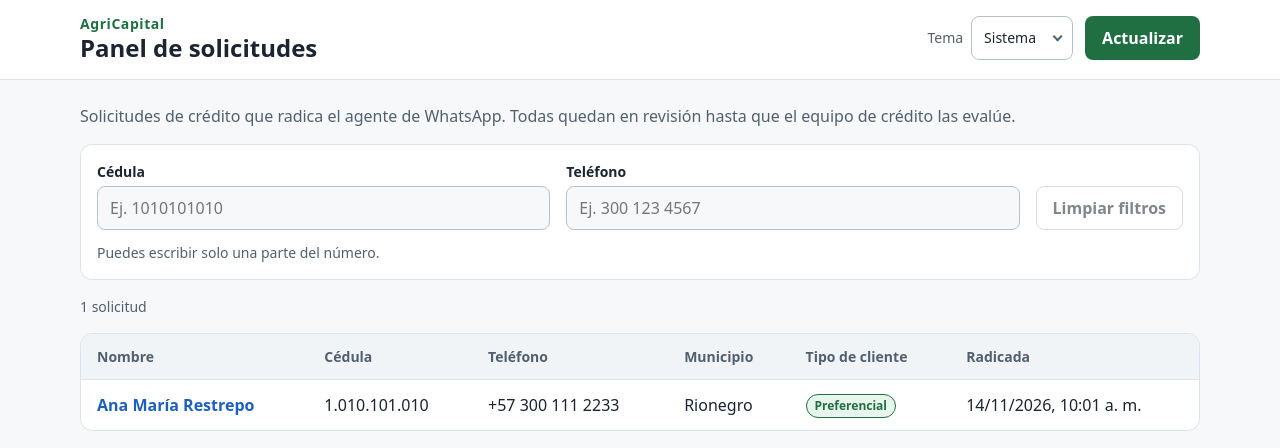
Test case: Panel de solicitudes › explica cuando ninguna solicitud coincide con la búsqueda
Expected: the table is shown, [81,334,1199,430]
Type "999" into the search field labelled "Teléfono" at (793, 208), box [566,186,1020,230]
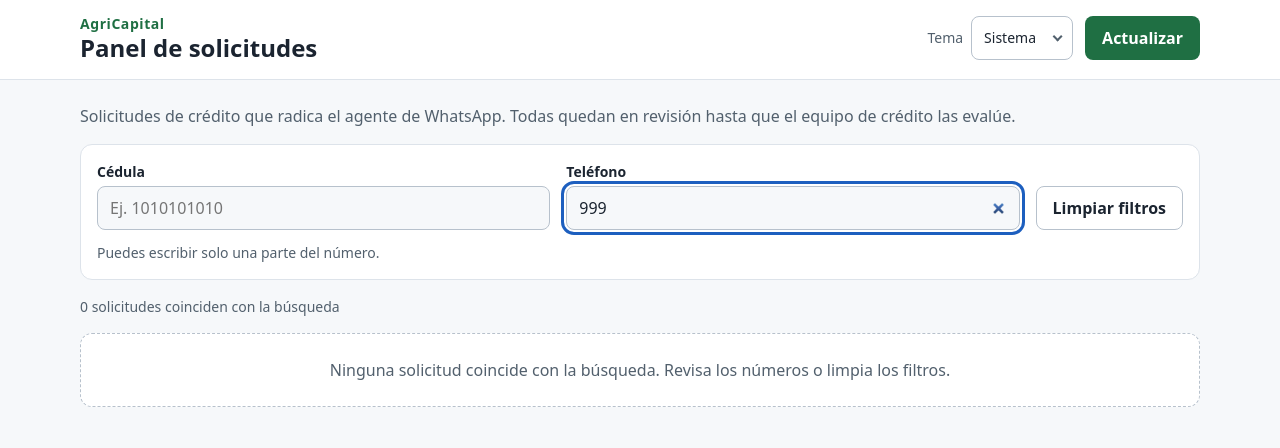
Expected: the text "Ninguna solicitud coincide" is shown, [330,359,950,381]
Expected: the table is gone
